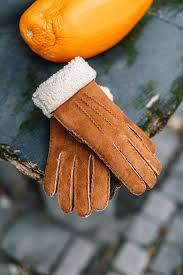gloves: (31, 56, 162, 198), (42, 117, 112, 218)
